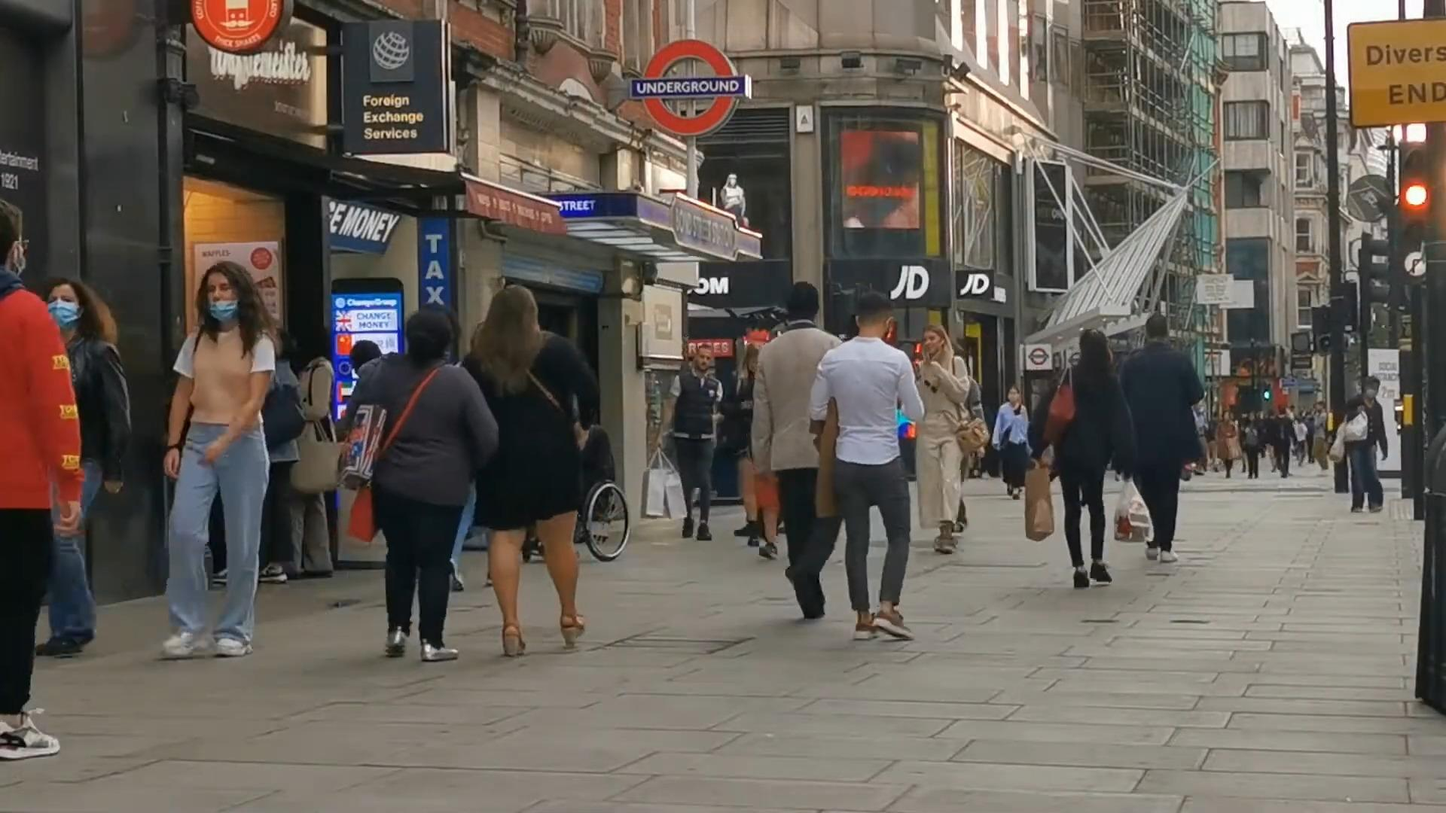no-helmet: (196, 260, 263, 325), (42, 276, 107, 334), (483, 284, 543, 346), (406, 309, 452, 365), (0, 198, 30, 278), (855, 292, 895, 338), (1079, 329, 1112, 366), (922, 323, 952, 357), (1145, 313, 1168, 342), (696, 344, 712, 372)
